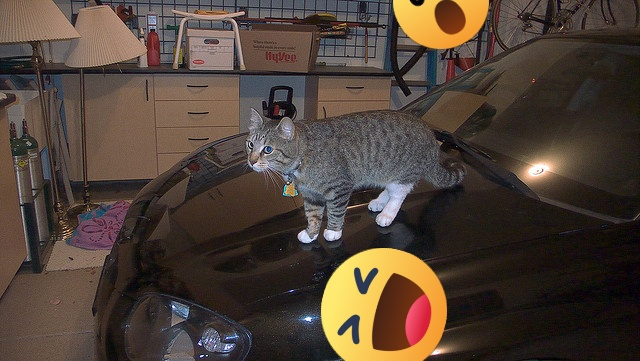haha: (321, 248, 447, 361)
wow: (393, 0, 489, 49)
